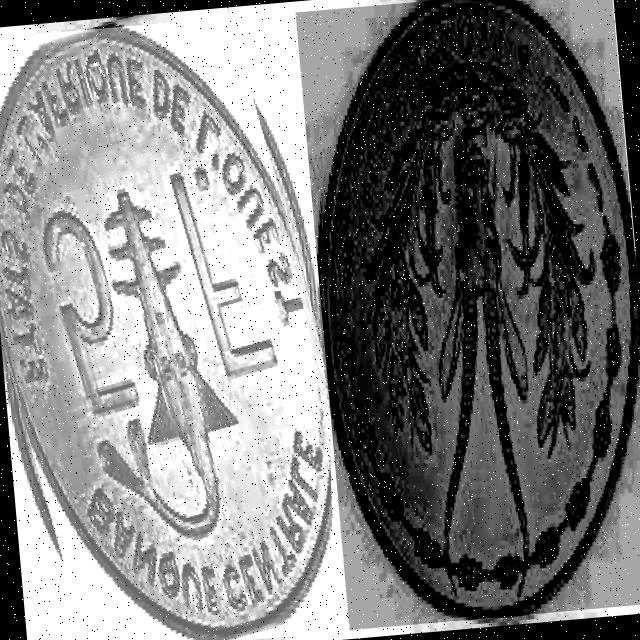derem: (0, 29, 334, 640), (323, 0, 638, 614)
